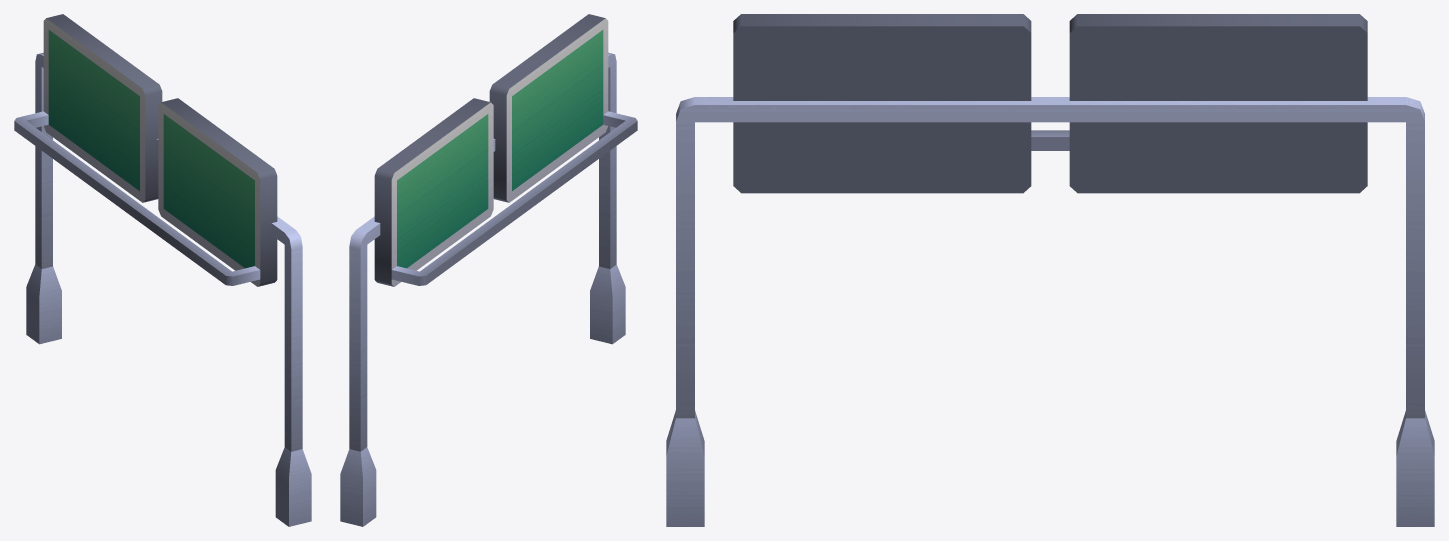
Rendered from sign-highway.glb.
3 renders of one model, left to right at view 1: azimuth 30°, elevation 25°; view 2: azimuth 150°, elevation 25°; view 3: azimuth 270°, elevation 25°, orthographic. The views are drawn at different scales.
Parts seen in each view (by area): view 1: sign-highway; view 2: sign-highway; view 3: sign-highway.
Boxes of the visible parts, x1,y1,x2,y2 form: sign-highway: (14, 14, 311, 526); sign-highway: (340, 14, 637, 526); sign-highway: (666, 14, 1434, 526).
Bounding box in the file's own units: 0.1324 × 0.7074 × 1.
